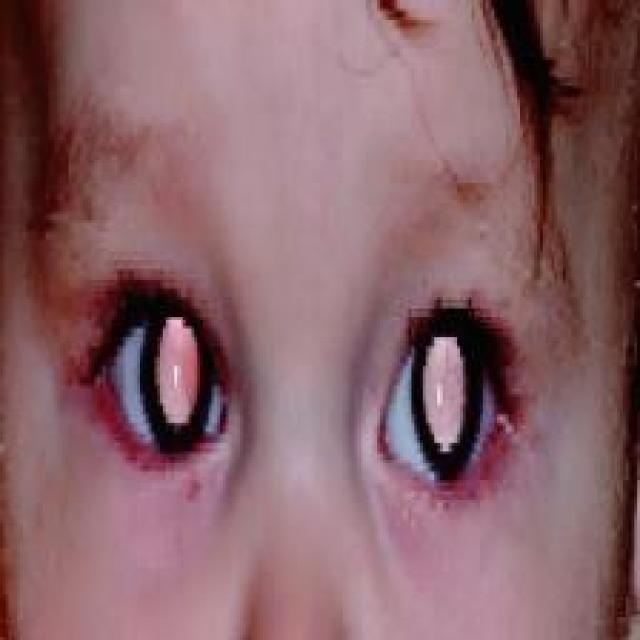reflexo-alterado: (65, 232, 273, 514), (357, 267, 521, 517)
